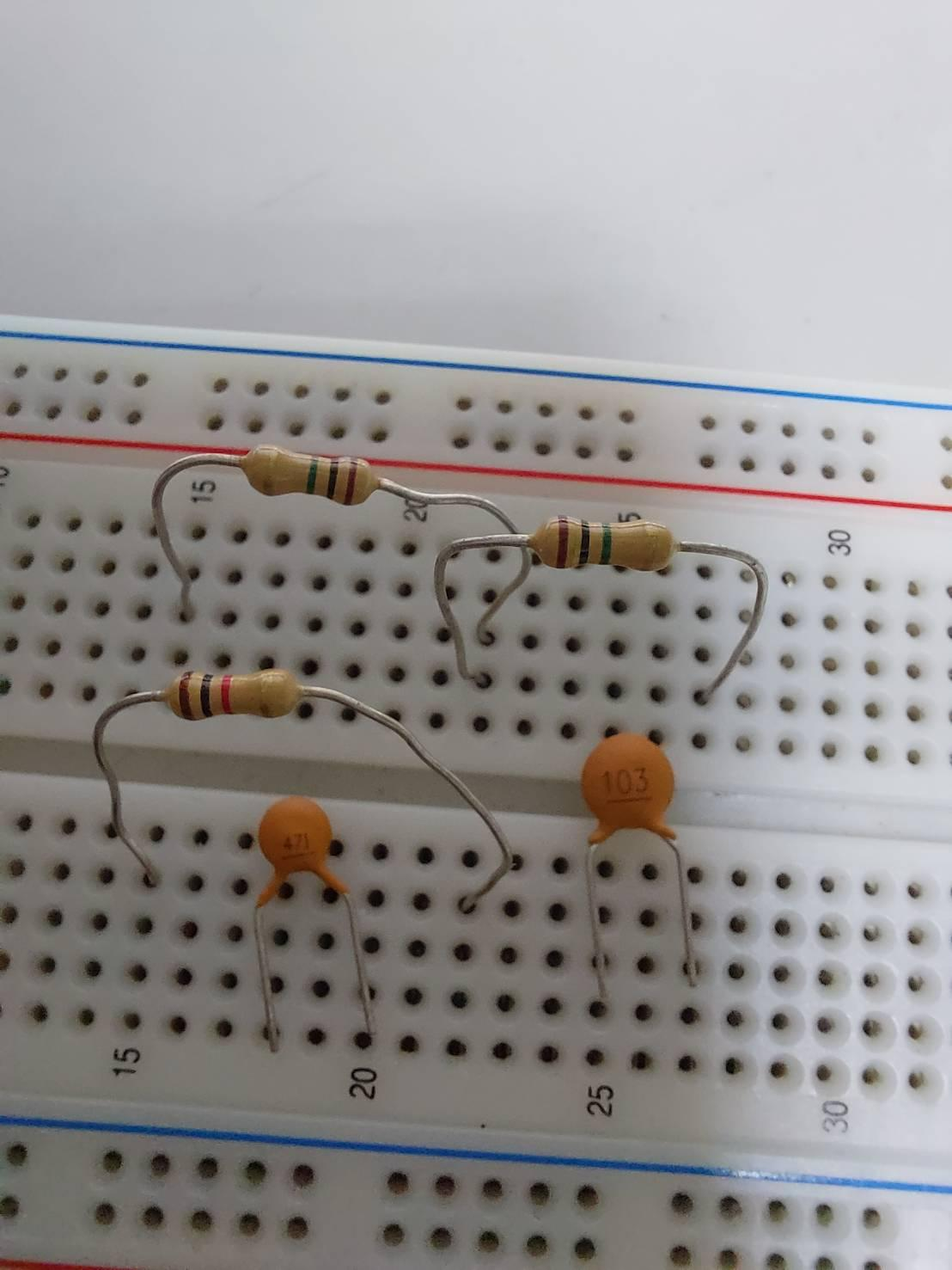resistor: (241, 440, 385, 510), (533, 512, 680, 572), (155, 667, 301, 721)
